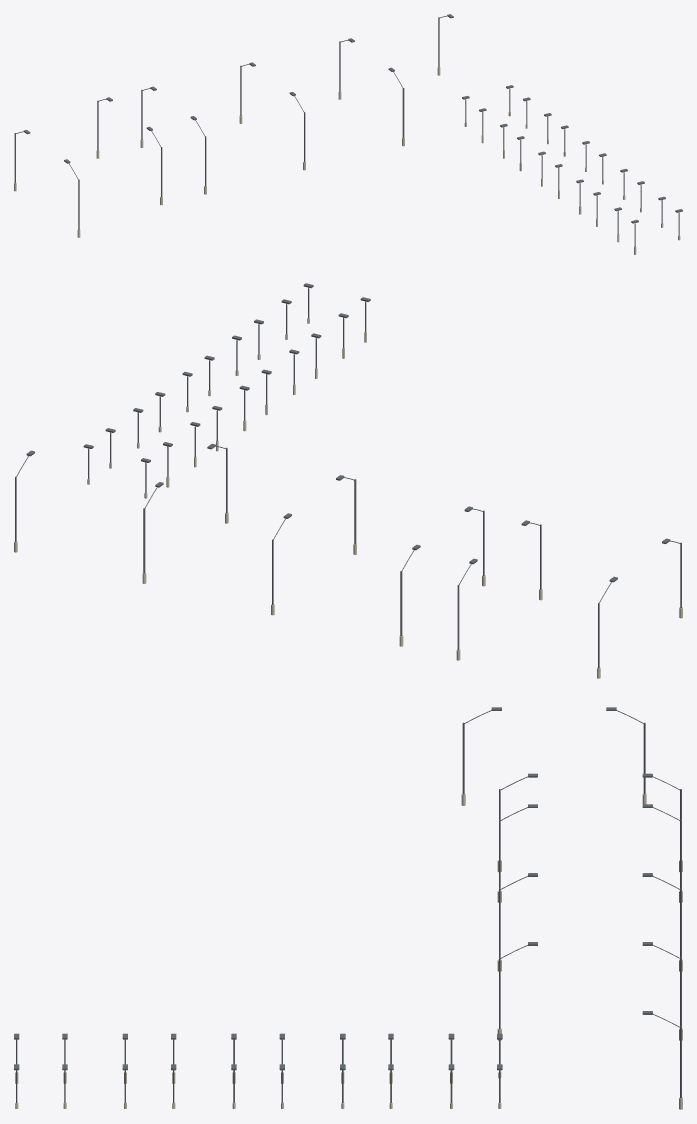
The picture shows the model from 3 angles, top to bottom: view 1: azimuth 30°, elevation 25°; view 2: azimuth 150°, elevation 25°; view 3: azimuth 270°, elevation 25°; orthographic projection. The views are drawn at different scales.
Parts seen in each view (by area): view 1: buildings_s_-11_-6_Dark_Metal, buildings_s_-11_-6_Warm_Limestone; view 2: buildings_s_-11_-6_Dark_Metal, buildings_s_-11_-6_Warm_Limestone; view 3: buildings_s_-11_-6_Dark_Metal, buildings_s_-11_-6_Warm_Limestone.
Part boxes in pixels (x1,y1,x2,y2): buildings_s_-11_-6_Dark_Metal: [14, 14, 682, 246]; buildings_s_-11_-6_Warm_Limestone: [14, 67, 680, 254]; buildings_s_-11_-6_Dark_Metal: [15, 283, 681, 668]; buildings_s_-11_-6_Warm_Limestone: [14, 318, 682, 678]; buildings_s_-11_-6_Dark_Metal: [14, 707, 681, 1103]; buildings_s_-11_-6_Warm_Limestone: [15, 793, 682, 1109].
Size of the model in its own units: 122 by 17.75 by 111.
